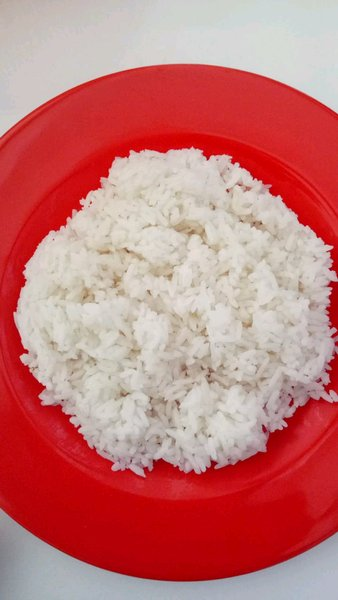Nasi Putih: (1, 133, 334, 451)
